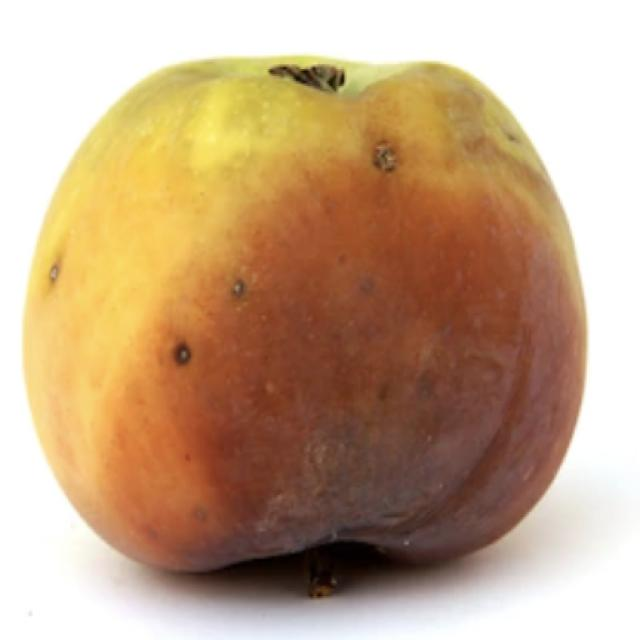rotten_apple: (28, 49, 592, 580)
